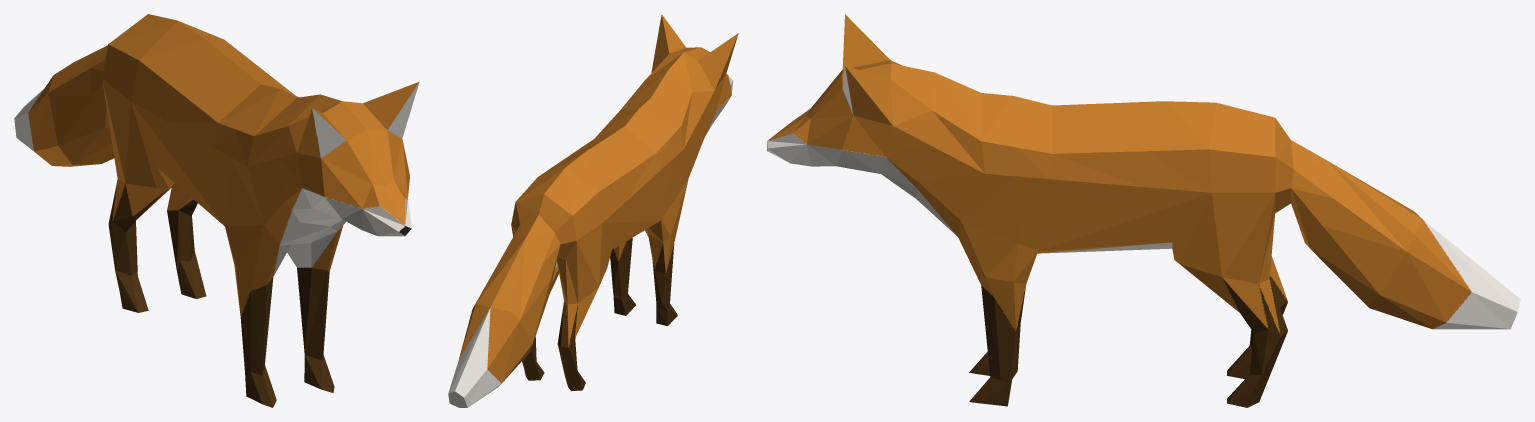
The model's file is littlefox.gltf.
The picture shows the model from 3 angles, left to right: view 1: azimuth 30°, elevation 25°; view 2: azimuth 150°, elevation 25°; view 3: azimuth 270°, elevation 25°; orthographic projection. The views are drawn at different scales.
Bounding box in the file's own units: 2.52 × 7.9 × 15.47.
1 material, 1 textured.
